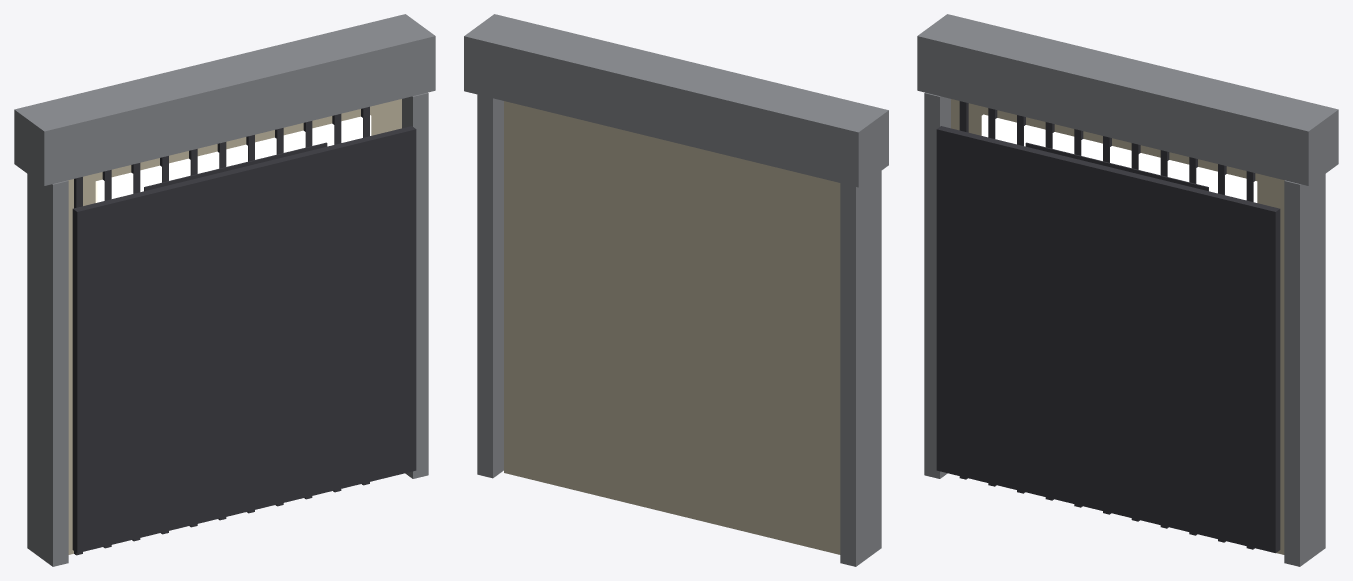
The model's file is prop_shutter_name.glb.
3 renders of one model, left to right at view 1: azimuth 30°, elevation 25°; view 2: azimuth 150°, elevation 25°; view 3: azimuth 330°, elevation 25°, orthographic.
Parts seen in each view (by area): view 1: shutter_name; view 2: shutter_name; view 3: shutter_name.
Part boxes in pixels (x1,y1,x2,y2): shutter_name: [14, 14, 435, 566]; shutter_name: [464, 14, 888, 566]; shutter_name: [917, 14, 1338, 566].
Bounding box in the file's own units: 3 × 3.2 × 0.49.
